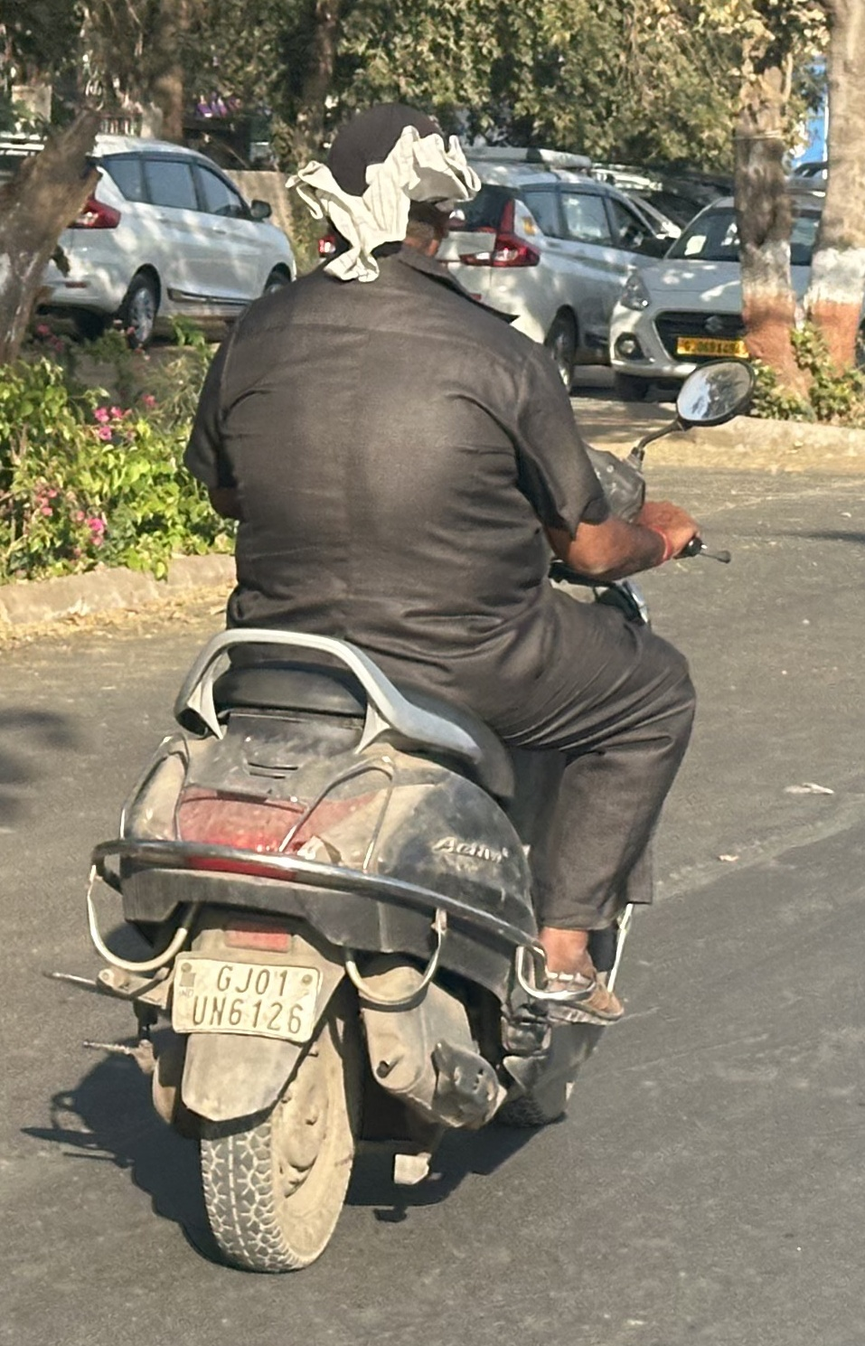BikeWithRider: (38, 97, 769, 1277)
NoHelmet: (276, 99, 483, 284)
